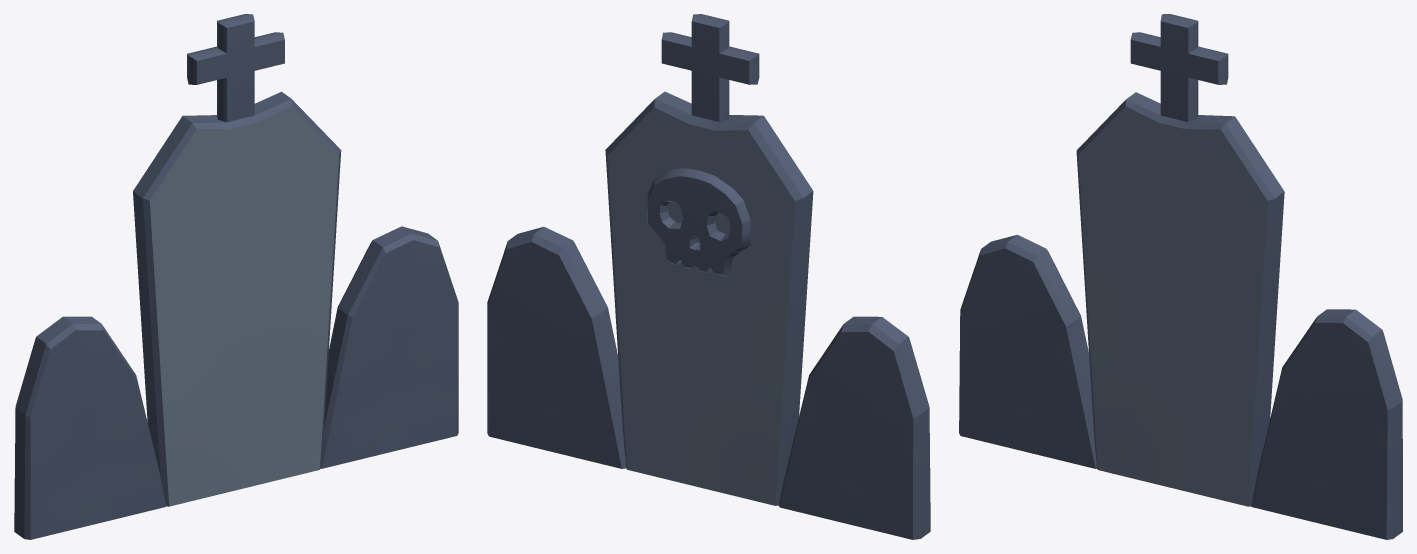
Rendered from Grave.fbx.
The picture shows the model from 3 angles, left to right: view 1: azimuth 30°, elevation 25°; view 2: azimuth 150°, elevation 25°; view 3: azimuth 330°, elevation 25°; orthographic projection.
Visible parts, largest first — view 1: TombstoneSkull5; view 2: TombstoneSkull5; view 3: TombstoneSkull5.
Part boxes in pixels (x1,y1,x2,y2): TombstoneSkull5: (14,14,458,539); TombstoneSkull5: (487,14,930,539); TombstoneSkull5: (959,14,1402,539).
Bounding box in the file's own units: 9.86 × 10.07 × 0.9083.
